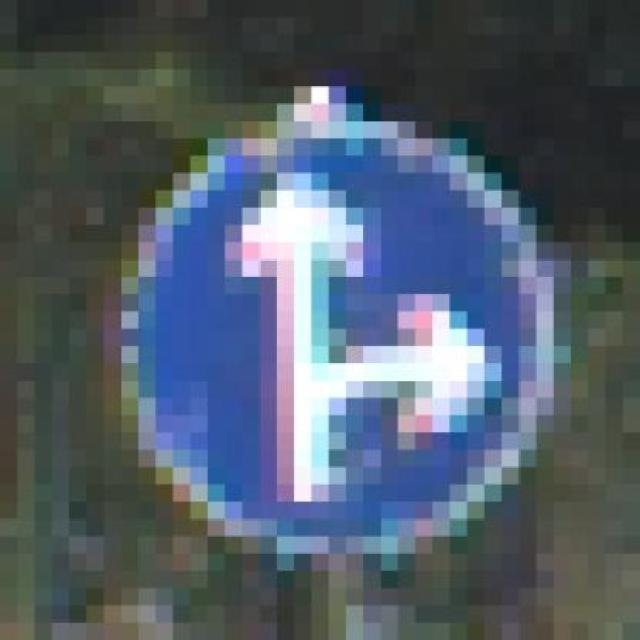Go Straight or Turn Right: (104, 103, 588, 571)
